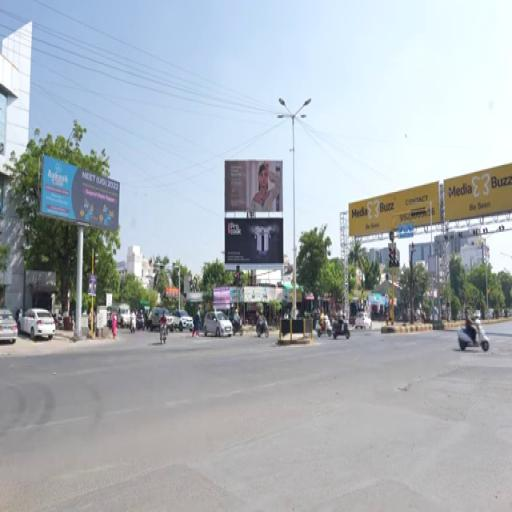Car: (20, 309, 55, 339), (204, 312, 232, 337), (0, 309, 18, 344), (148, 308, 174, 331), (172, 311, 193, 331), (117, 305, 130, 327), (356, 312, 371, 328), (473, 311, 481, 319)
